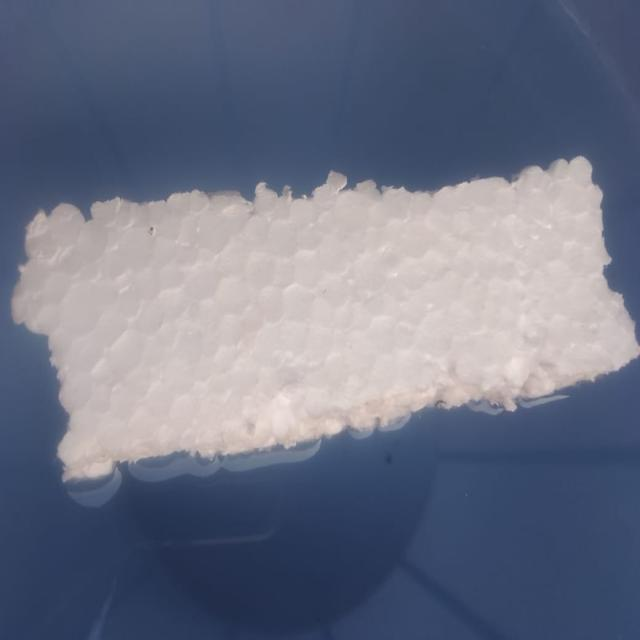thermocoal: (0, 148, 640, 503)
